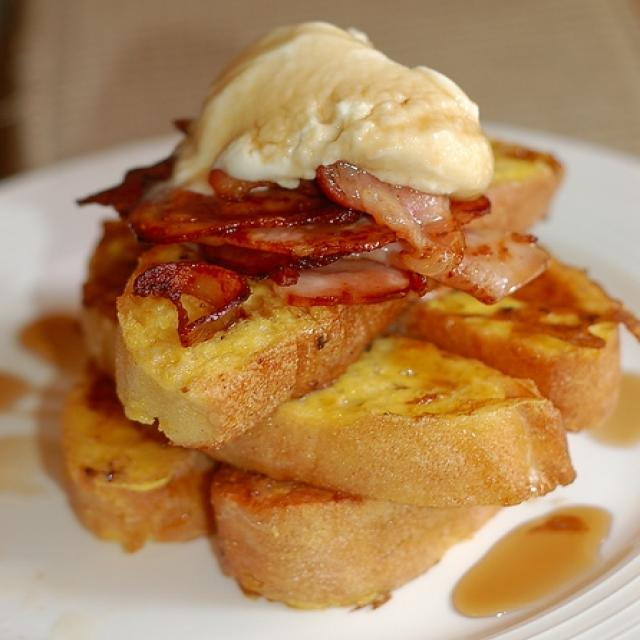面包点心: (16, 15, 630, 631)
